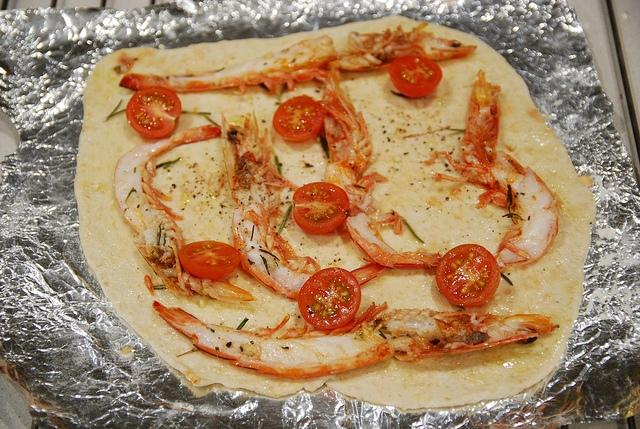tomato: (436, 243, 500, 308), (298, 268, 361, 330), (292, 182, 350, 235), (126, 86, 182, 138), (272, 96, 324, 142), (179, 241, 240, 280), (388, 55, 443, 98)
